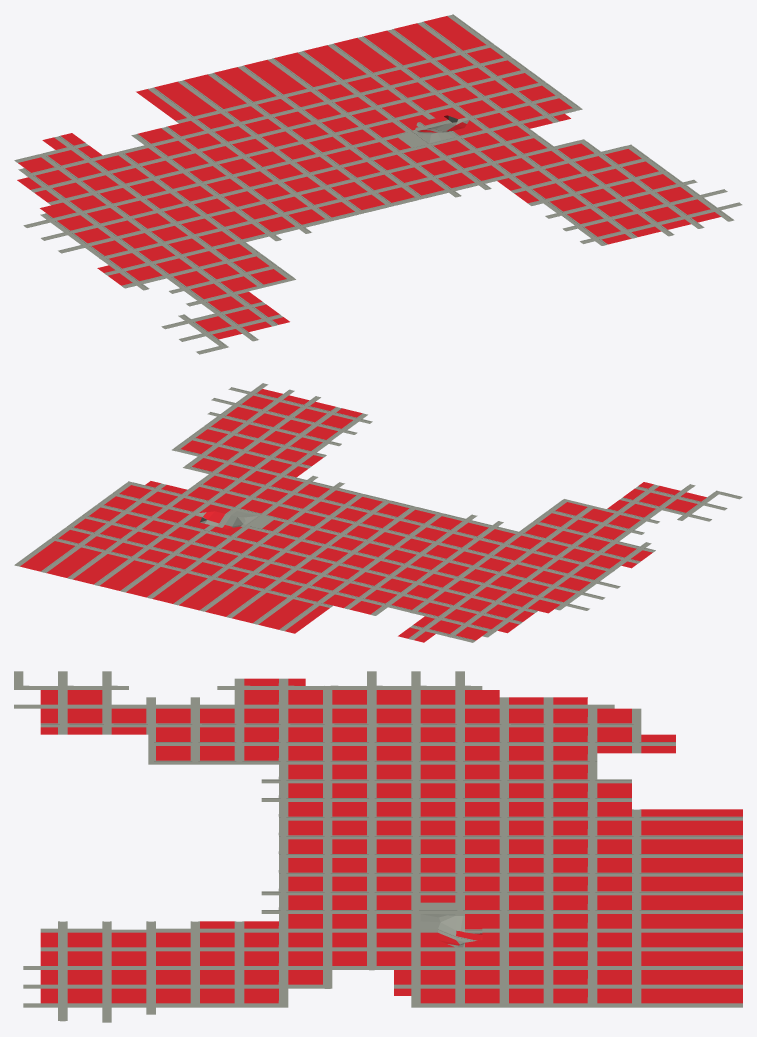
The model's file is Map(1).glb.
3 views of the same model, one above another, from view 1: azimuth 30°, elevation 25°; view 2: azimuth 150°, elevation 25°; view 3: azimuth 270°, elevation 25° (orthographic). The views are drawn at different scales.
Parts seen in each view (by area): view 1: pLANE; view 2: pLANE; view 3: pLANE.
Boxes of the visible parts, box(x1,y1,x2,y2) form: pLANE: box(14, 14, 742, 354); pLANE: box(14, 383, 742, 642); pLANE: box(14, 671, 742, 1022).
Size of the model in its own units: 3821 by 108 by 3350.
